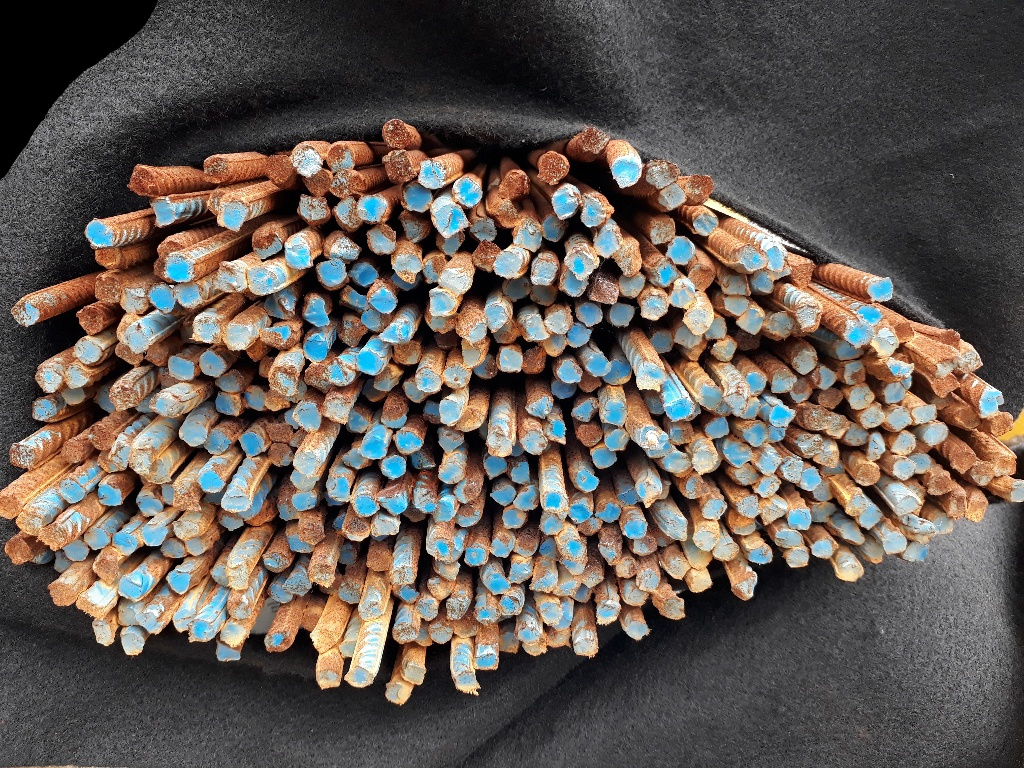dipstick: (430, 198, 467, 233), (129, 165, 160, 196), (291, 144, 321, 176), (217, 261, 247, 293), (566, 248, 600, 276), (615, 238, 640, 276), (552, 184, 579, 219), (538, 153, 569, 183), (191, 312, 221, 343), (385, 150, 415, 180), (402, 212, 432, 242), (610, 156, 641, 185), (498, 169, 528, 198), (441, 262, 469, 293), (284, 237, 311, 269), (429, 289, 459, 317), (246, 267, 277, 294), (269, 367, 296, 398), (266, 292, 295, 320), (457, 312, 486, 340), (321, 395, 350, 423), (172, 482, 200, 511), (148, 282, 174, 313), (252, 231, 283, 257), (245, 501, 276, 527), (382, 119, 409, 148), (94, 274, 121, 303), (579, 127, 609, 153), (337, 316, 362, 347), (325, 472, 350, 503), (335, 197, 359, 229), (297, 196, 330, 219), (454, 179, 482, 206), (317, 259, 345, 286), (472, 244, 499, 272), (495, 251, 522, 279), (293, 406, 321, 433), (687, 175, 715, 202), (684, 307, 712, 334), (202, 156, 231, 182), (640, 293, 669, 319), (84, 220, 112, 246), (669, 236, 695, 264), (638, 365, 666, 391), (795, 302, 821, 330), (8, 443, 37, 468), (305, 298, 329, 328), (581, 198, 605, 228), (595, 227, 619, 257), (647, 162, 678, 185), (723, 441, 754, 464), (266, 156, 292, 183), (420, 161, 446, 188), (174, 282, 201, 308), (368, 227, 395, 253), (515, 225, 541, 252), (5, 538, 31, 565), (403, 184, 431, 209), (532, 256, 557, 284), (152, 196, 176, 225), (392, 342, 421, 366), (118, 577, 147, 601), (77, 595, 106, 619), (327, 238, 360, 259), (357, 197, 387, 220), (873, 329, 896, 359), (330, 171, 356, 197), (77, 308, 103, 334), (545, 308, 571, 334), (327, 144, 354, 169), (120, 289, 147, 314), (198, 352, 225, 377), (214, 392, 241, 417), (266, 442, 293, 467), (366, 546, 393, 571), (380, 491, 407, 516), (522, 315, 549, 340), (602, 402, 629, 427), (762, 497, 787, 524), (11, 301, 39, 325), (48, 582, 76, 606), (728, 512, 756, 536), (905, 521, 935, 543), (380, 323, 411, 344), (224, 323, 249, 349), (95, 558, 120, 584), (659, 186, 685, 211), (294, 452, 321, 476), (117, 603, 144, 627), (577, 303, 604, 327), (703, 416, 730, 440), (733, 577, 760, 601), (125, 325, 148, 353), (73, 339, 101, 362), (167, 355, 195, 378), (422, 248, 442, 280), (259, 325, 291, 345), (305, 363, 327, 392), (463, 339, 485, 368), (764, 242, 786, 271), (275, 491, 296, 521), (651, 264, 681, 285), (35, 366, 60, 391), (591, 280, 616, 305), (180, 422, 205, 447), (222, 622, 247, 647), (515, 486, 540, 511), (669, 283, 694, 308), (868, 277, 893, 302), (848, 385, 873, 410), (220, 204, 246, 228), (394, 249, 420, 273), (329, 358, 353, 384), (489, 533, 515, 557), (757, 449, 781, 475), (892, 431, 916, 457), (356, 352, 383, 375), (337, 581, 364, 604), (439, 399, 462, 426), (792, 345, 815, 372), (361, 309, 389, 331), (58, 480, 86, 502), (227, 563, 249, 591), (351, 495, 379, 517), (836, 558, 864, 580), (502, 279, 531, 300), (722, 274, 751, 295), (371, 288, 396, 312), (303, 337, 327, 362), (650, 218, 674, 243), (843, 361, 868, 385), (738, 310, 763, 334), (923, 422, 947, 447), (956, 348, 981, 372), (494, 201, 517, 227), (16, 512, 42, 535), (522, 347, 545, 373), (790, 261, 813, 287), (846, 322, 872, 345), (932, 374, 958, 397), (484, 304, 506, 331), (136, 495, 163, 517), (83, 528, 110, 550), (484, 573, 511, 595), (804, 408, 831, 430), (979, 387, 1001, 414), (348, 264, 376, 285), (221, 491, 249, 512), (262, 551, 290, 572), (528, 572, 556, 593), (239, 432, 263, 456), (375, 367, 399, 391), (121, 632, 145, 656), (228, 597, 252, 621), (456, 503, 480, 527), (457, 480, 481, 504), (724, 384, 748, 408), (888, 408, 912, 432), (305, 172, 330, 195), (561, 273, 586, 296), (129, 449, 152, 474), (382, 455, 407, 478), (141, 524, 166, 547), (301, 519, 324, 544), (312, 630, 337, 653), (498, 349, 523, 372), (767, 311, 792, 334), (111, 386, 137, 408), (96, 484, 122, 506), (111, 533, 137, 555), (290, 470, 316, 492), (191, 618, 213, 644), (267, 582, 293, 604), (426, 578, 452, 600), (712, 339, 738, 361), (577, 424, 603, 446), (816, 442, 838, 468), (359, 438, 386, 459), (264, 630, 291, 651), (94, 248, 122, 268), (284, 575, 312, 595), (346, 668, 374, 688), (439, 463, 467, 483), (89, 426, 113, 449), (385, 682, 409, 705), (610, 303, 634, 326), (596, 601, 619, 625), (670, 422, 694, 445), (687, 475, 711, 498), (787, 507, 811, 530), (690, 267, 713, 291), (371, 517, 400, 536), (968, 493, 987, 522), (416, 371, 441, 393), (91, 622, 113, 647), (487, 433, 512, 455), (740, 249, 765, 271), (955, 407, 980, 429), (995, 452, 1017, 477), (308, 564, 334, 585), (461, 407, 482, 433), (604, 429, 630, 450), (455, 672, 482, 692), (390, 566, 417, 586), (733, 464, 760, 484), (168, 571, 191, 594), (413, 489, 436, 512), (542, 490, 565, 513), (620, 274, 643, 297), (698, 386, 721, 409), (745, 423, 768, 446), (472, 219, 496, 241), (61, 440, 83, 464), (205, 432, 229, 454), (40, 526, 64, 548), (64, 540, 88, 562), (427, 537, 451, 559), (439, 431, 463, 453), (445, 366, 469, 388), (693, 213, 717, 235), (575, 470, 599, 492), (774, 531, 807, 547), (855, 464, 879, 486), (396, 432, 421, 453), (637, 427, 662, 448), (542, 216, 562, 242), (266, 423, 292, 443), (344, 522, 370, 542), (590, 448, 616, 468), (599, 539, 619, 565), (770, 406, 796, 426), (198, 472, 225, 491), (216, 513, 243, 532), (666, 400, 693, 419), (663, 454, 690, 473), (65, 365, 87, 388), (316, 667, 339, 689), (429, 623, 452, 645), (568, 325, 591, 347), (638, 478, 660, 501), (841, 523, 864, 545), (813, 365, 835, 388), (934, 356, 957, 378), (939, 329, 962, 351), (342, 451, 370, 469), (173, 521, 201, 539), (886, 360, 914, 378), (903, 544, 931, 562), (929, 473, 953, 494), (32, 399, 57, 419), (494, 323, 519, 343), (573, 635, 598, 655), (523, 433, 548, 453), (666, 558, 691, 578), (701, 498, 726, 518), (756, 475, 781, 495), (791, 378, 811, 403), (117, 346, 143, 365), (381, 409, 407, 428), (392, 624, 418, 643), (557, 363, 583, 382), (687, 549, 713, 568), (811, 503, 837, 522), (819, 389, 845, 408), (859, 409, 885, 428), (159, 540, 186, 558), (347, 412, 369, 434), (416, 599, 438, 621), (475, 356, 497, 378), (607, 361, 629, 383), (564, 540, 587, 561), (651, 331, 674, 352), (663, 597, 686, 618), (737, 399, 760, 420), (151, 395, 175, 415), (395, 584, 419, 604), (952, 452, 976, 472), (973, 462, 993, 486), (532, 286, 557, 305), (359, 602, 384, 621), (453, 619, 478, 638), (625, 621, 650, 640), (829, 414, 848, 439), (911, 404, 936, 423), (894, 495, 920, 513), (426, 316, 457, 331), (837, 344, 866, 360), (694, 449, 715, 471), (738, 495, 760, 516), (782, 460, 803, 482), (772, 372, 794, 393), (811, 538, 833, 559), (884, 382, 906, 403), (801, 436, 824, 456), (410, 453, 437, 470), (1, 497, 20, 521), (140, 611, 159, 635), (337, 543, 356, 567), (436, 562, 460, 581), (491, 485, 515, 504), (801, 468, 820, 492), (751, 273, 775, 292), (844, 424, 868, 443), (216, 374, 241, 392), (623, 519, 648, 537), (693, 531, 718, 549), (713, 543, 738, 561), (515, 535, 536, 556), (544, 419, 565, 440), (293, 491, 315, 511), (540, 514, 562, 534), (588, 356, 610, 376), (861, 506, 883, 526), (245, 388, 264, 411), (649, 439, 672, 458), (689, 573, 712, 592), (864, 541, 883, 564), (868, 432, 883, 461), (476, 606, 500, 624), (512, 461, 530, 485), (669, 517, 687, 541), (748, 546, 772, 564), (950, 494, 968, 518), (632, 537, 657, 554), (146, 344, 166, 365), (148, 461, 168, 482), (30, 542, 50, 563), (405, 664, 426, 684), (545, 334, 565, 355), (616, 558, 637, 578), (637, 570, 657, 591), (746, 372, 766, 393), (813, 482, 833, 503), (845, 495, 866, 515), (894, 459, 914, 480), (447, 598, 466, 620), (485, 456, 507, 475), (503, 510, 525, 529), (786, 550, 808, 569), (990, 415, 1012, 434), (207, 191, 225, 214), (343, 289, 366, 307), (529, 398, 552, 416), (574, 402, 597, 420), (61, 388, 85, 405), (624, 590, 648, 607), (724, 297, 748, 314), (498, 632, 518, 652), (676, 330, 701, 346), (499, 595, 520, 614), (435, 500, 454, 521), (112, 445, 130, 467), (475, 652, 497, 670), (709, 317, 727, 339), (859, 305, 881, 323), (597, 505, 620, 522), (288, 537, 314, 552), (216, 645, 240, 661), (569, 506, 593, 522), (885, 534, 905, 553), (172, 611, 190, 632), (541, 539, 559, 560), (619, 488, 640, 506), (552, 382, 577, 397), (404, 385, 426, 402), (210, 564, 227, 586), (934, 516, 956, 533), (436, 333, 459, 349), (516, 626, 542, 640), (542, 602, 561, 621), (686, 341, 705, 360), (896, 323, 915, 342), (466, 548, 486, 566), (510, 565, 530, 583), (522, 641, 546, 656), (52, 553, 70, 572), (187, 538, 206, 556), (424, 404, 440, 425), (548, 630, 570, 645), (96, 388, 109, 413), (579, 520, 602, 534), (117, 320, 132, 341), (564, 560, 586, 574), (340, 640, 357, 658), (647, 396, 663, 415), (557, 581, 578, 595), (561, 604, 573, 628), (916, 453, 931, 472), (258, 358, 272, 378), (1009, 484, 1024, 502), (365, 388, 384, 402), (768, 427, 787, 441), (248, 345, 265, 360), (161, 484, 173, 505), (418, 630, 432, 648), (576, 586, 590, 603), (284, 410, 295, 426), (660, 482, 669, 497)
